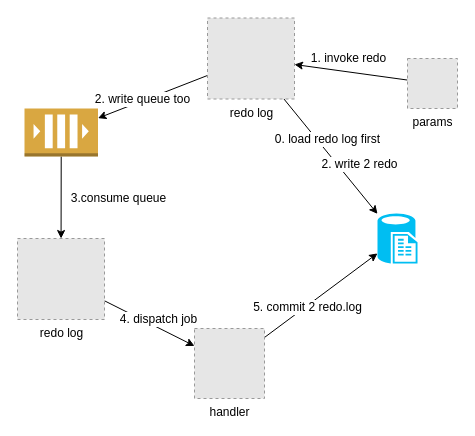
This 475x436 diagram has some shape labels left out. Grey dashed boxes stand in for pictures. Here are the shapes that lost their labels. From the top down, the centre of each, then its label:
At (x=61, y=132): "redo-queue".
At (x=397, y=238): "redo.log".
